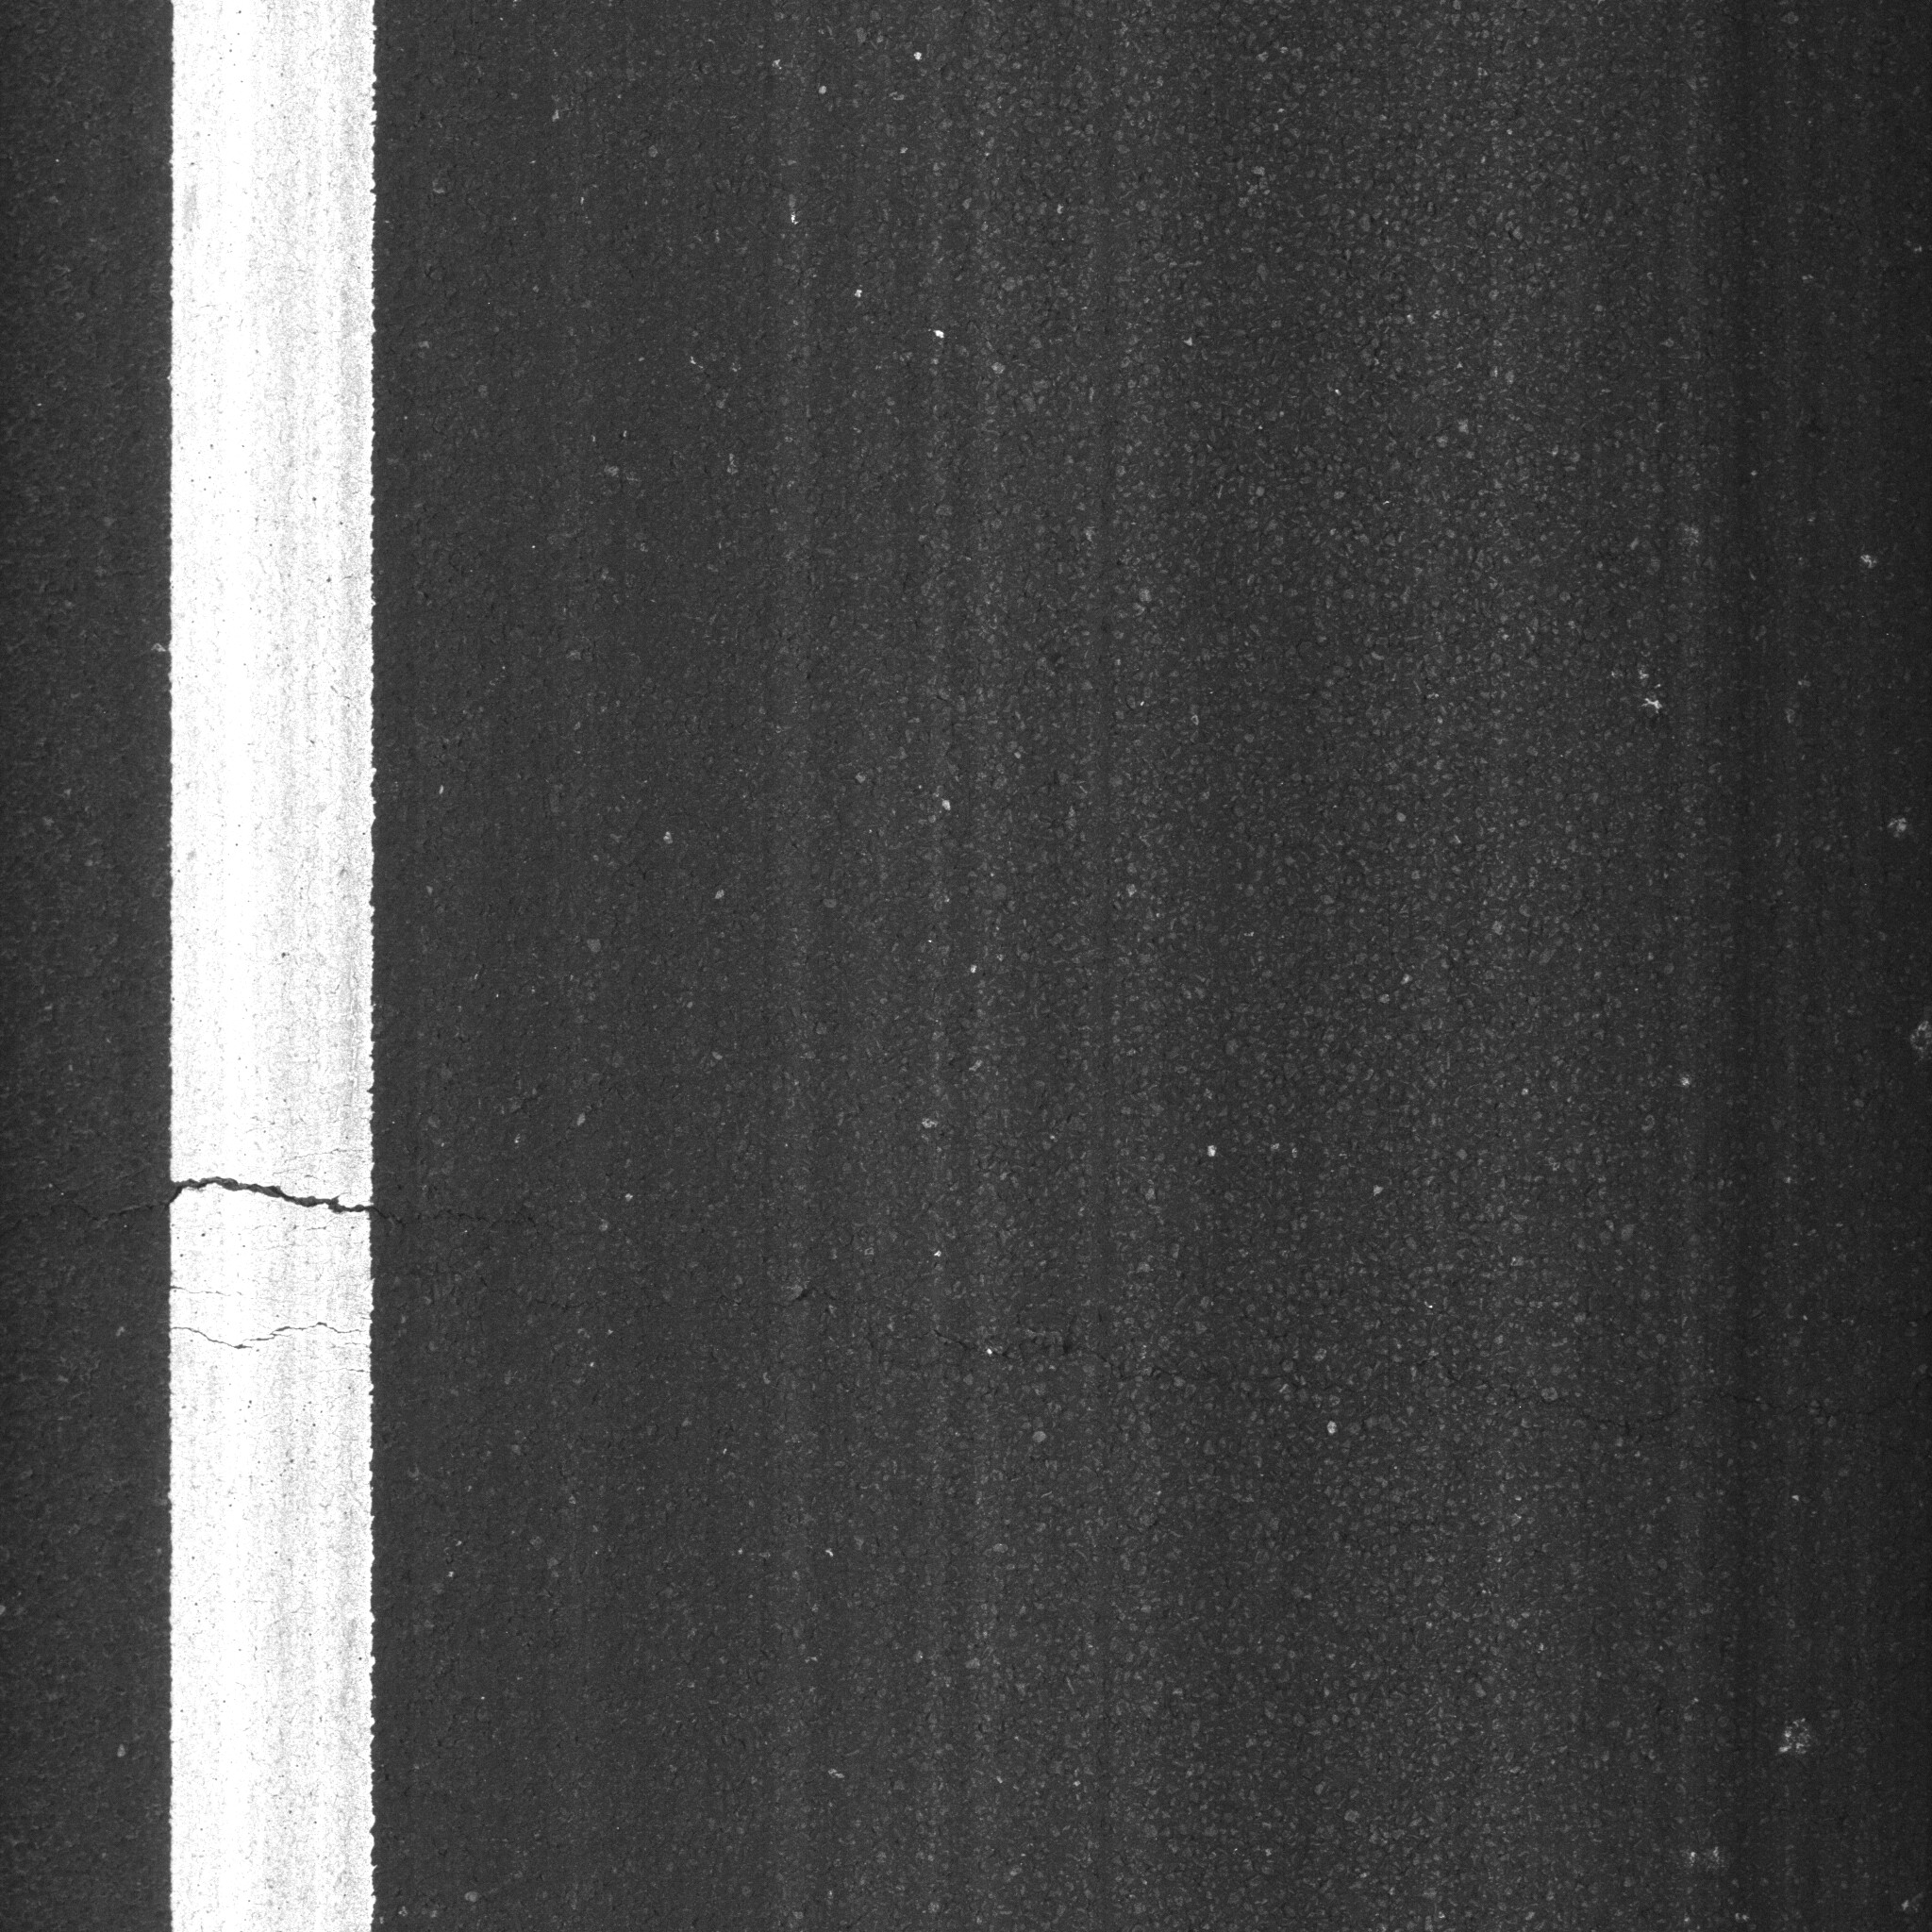transeverse: (55, 1162, 598, 1286), (92, 1309, 524, 1362)
